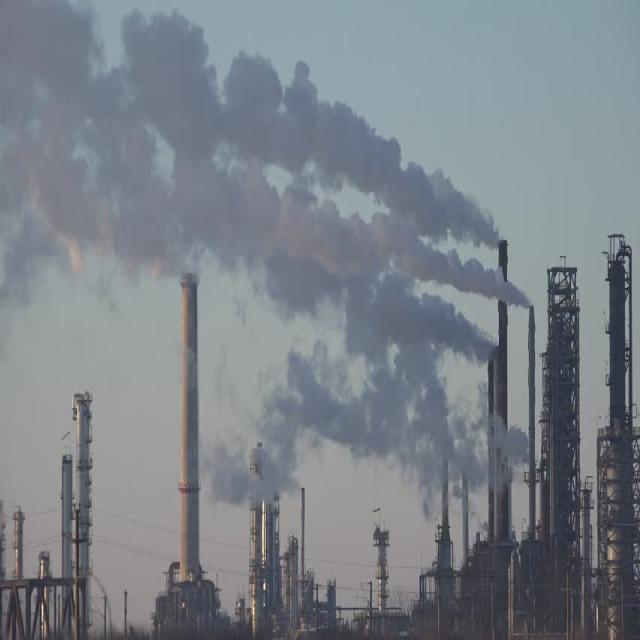Smoke: (0, 0, 531, 524)
